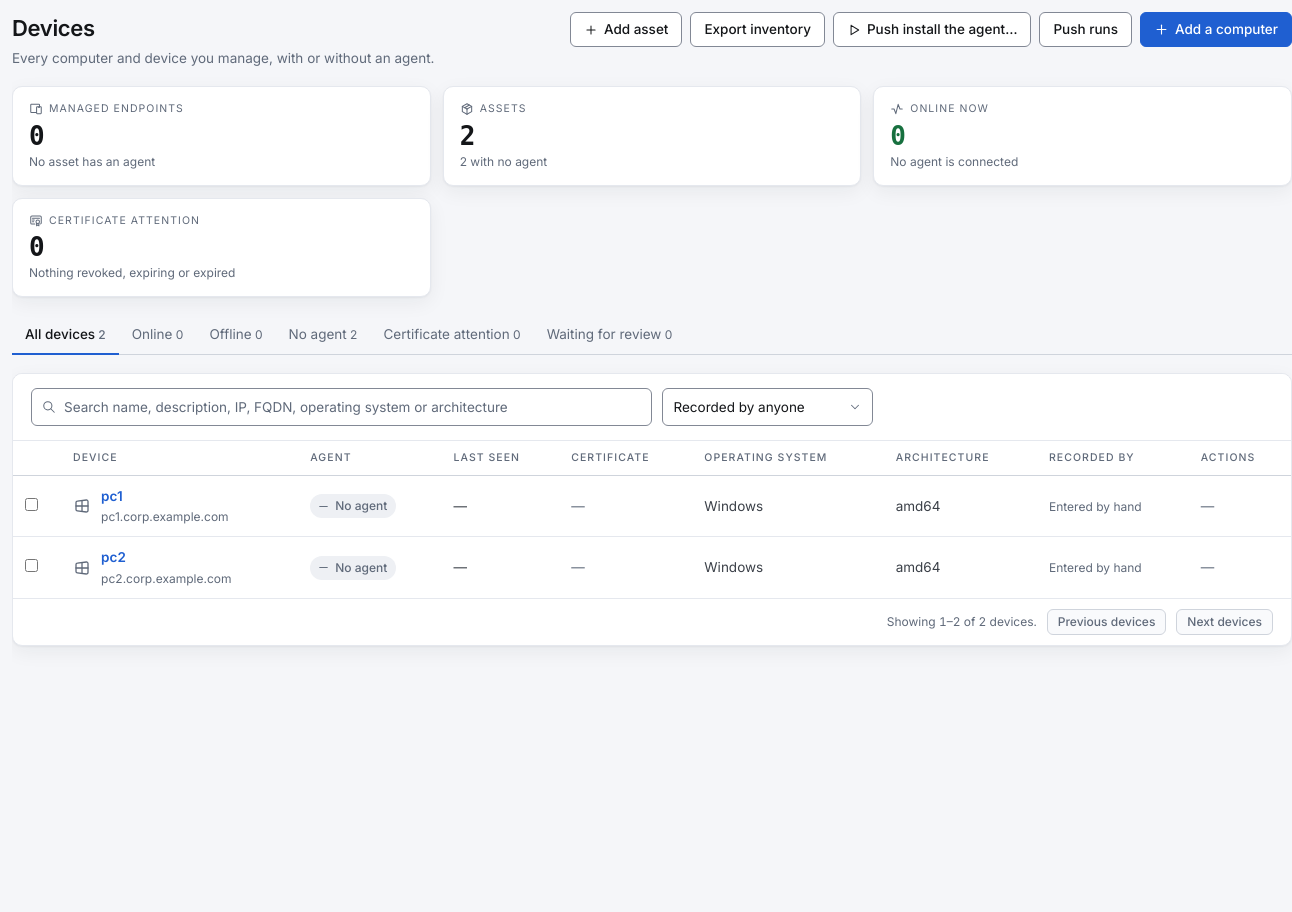
selecting machines for a push install › shows the action only once a machine is ticked, naming how many
Expected: the link "pc1" is shown, [101,488,123,504]
Expected: the button "Push install the agent…" is shown, [833,12,1031,47]
Step 1. Click the checkbox named "Select pc1 for push install" → (32, 505), box [25,498,38,511]
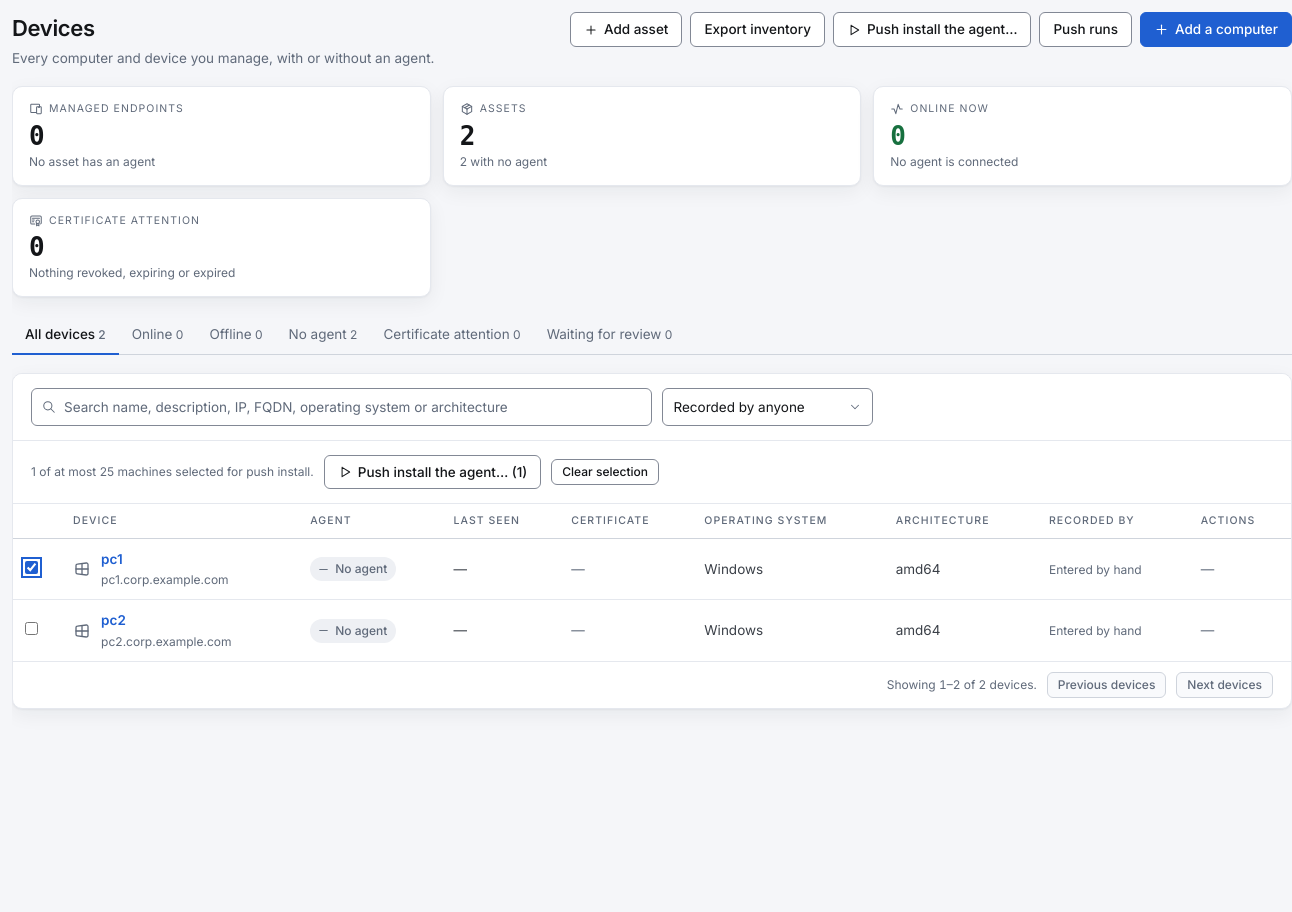
Step 2. Click the checkbox named "Select pc2 for push install" → (32, 629), box [25,622,38,635]
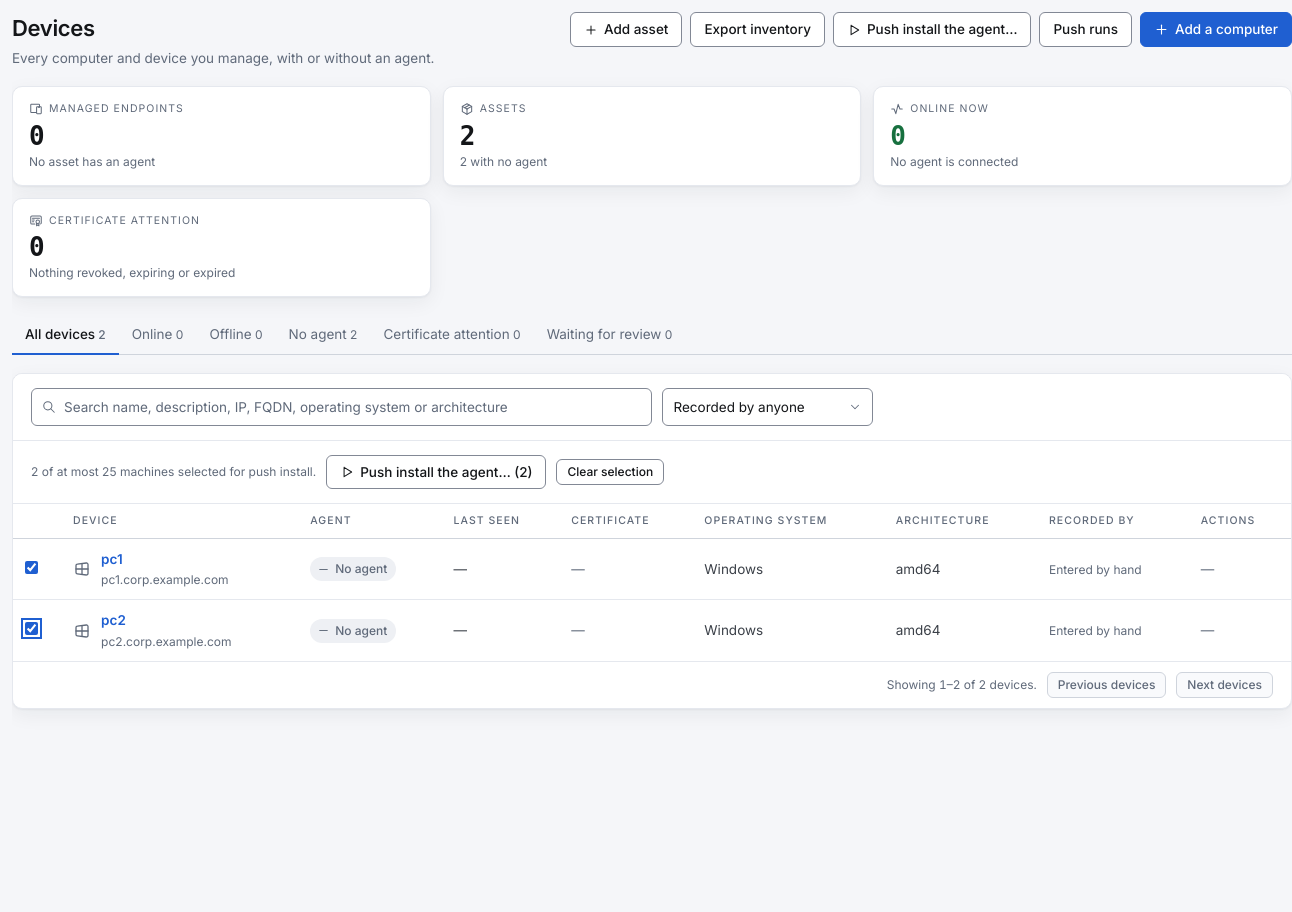
Result: the button "Push install the agent… (2)" is shown at [326,455,546,489]
